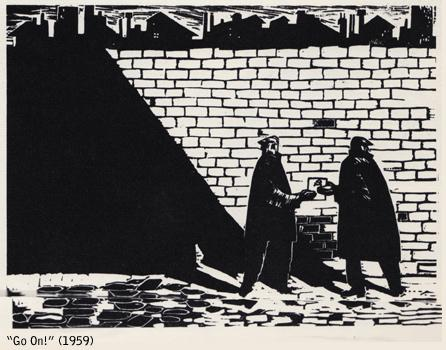person: (333, 134, 413, 293), (242, 133, 300, 292)
